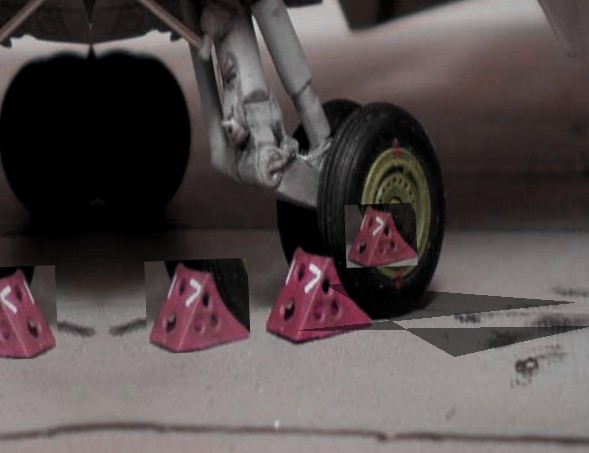chock: (261, 241, 374, 344), (144, 258, 251, 354), (0, 265, 58, 362), (344, 202, 418, 268)
wheel: (314, 99, 452, 321), (94, 49, 196, 221), (0, 53, 94, 224)
